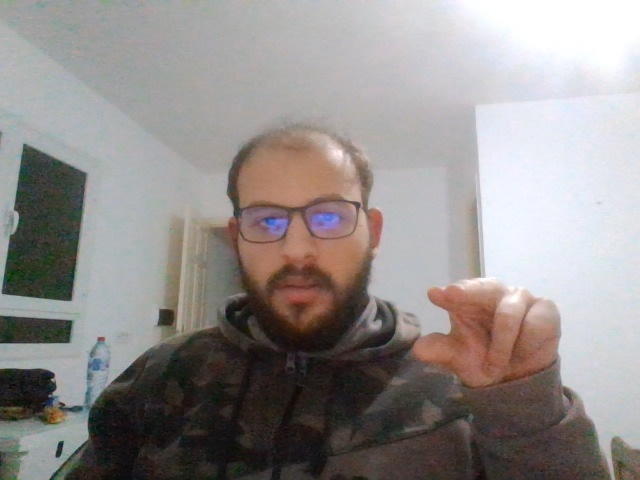No: (417, 282, 561, 385)
